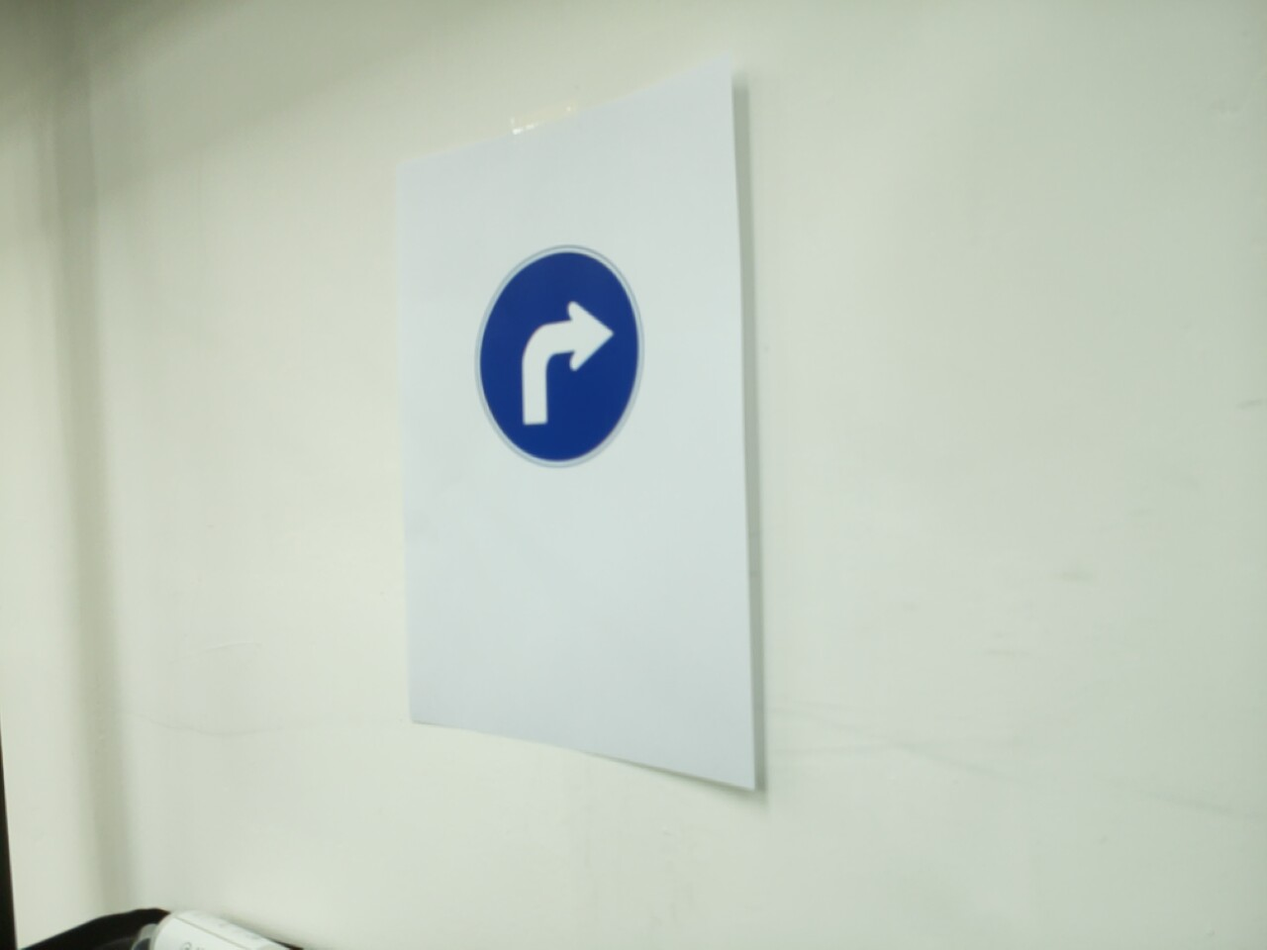right_turn: (473, 244, 645, 470)
